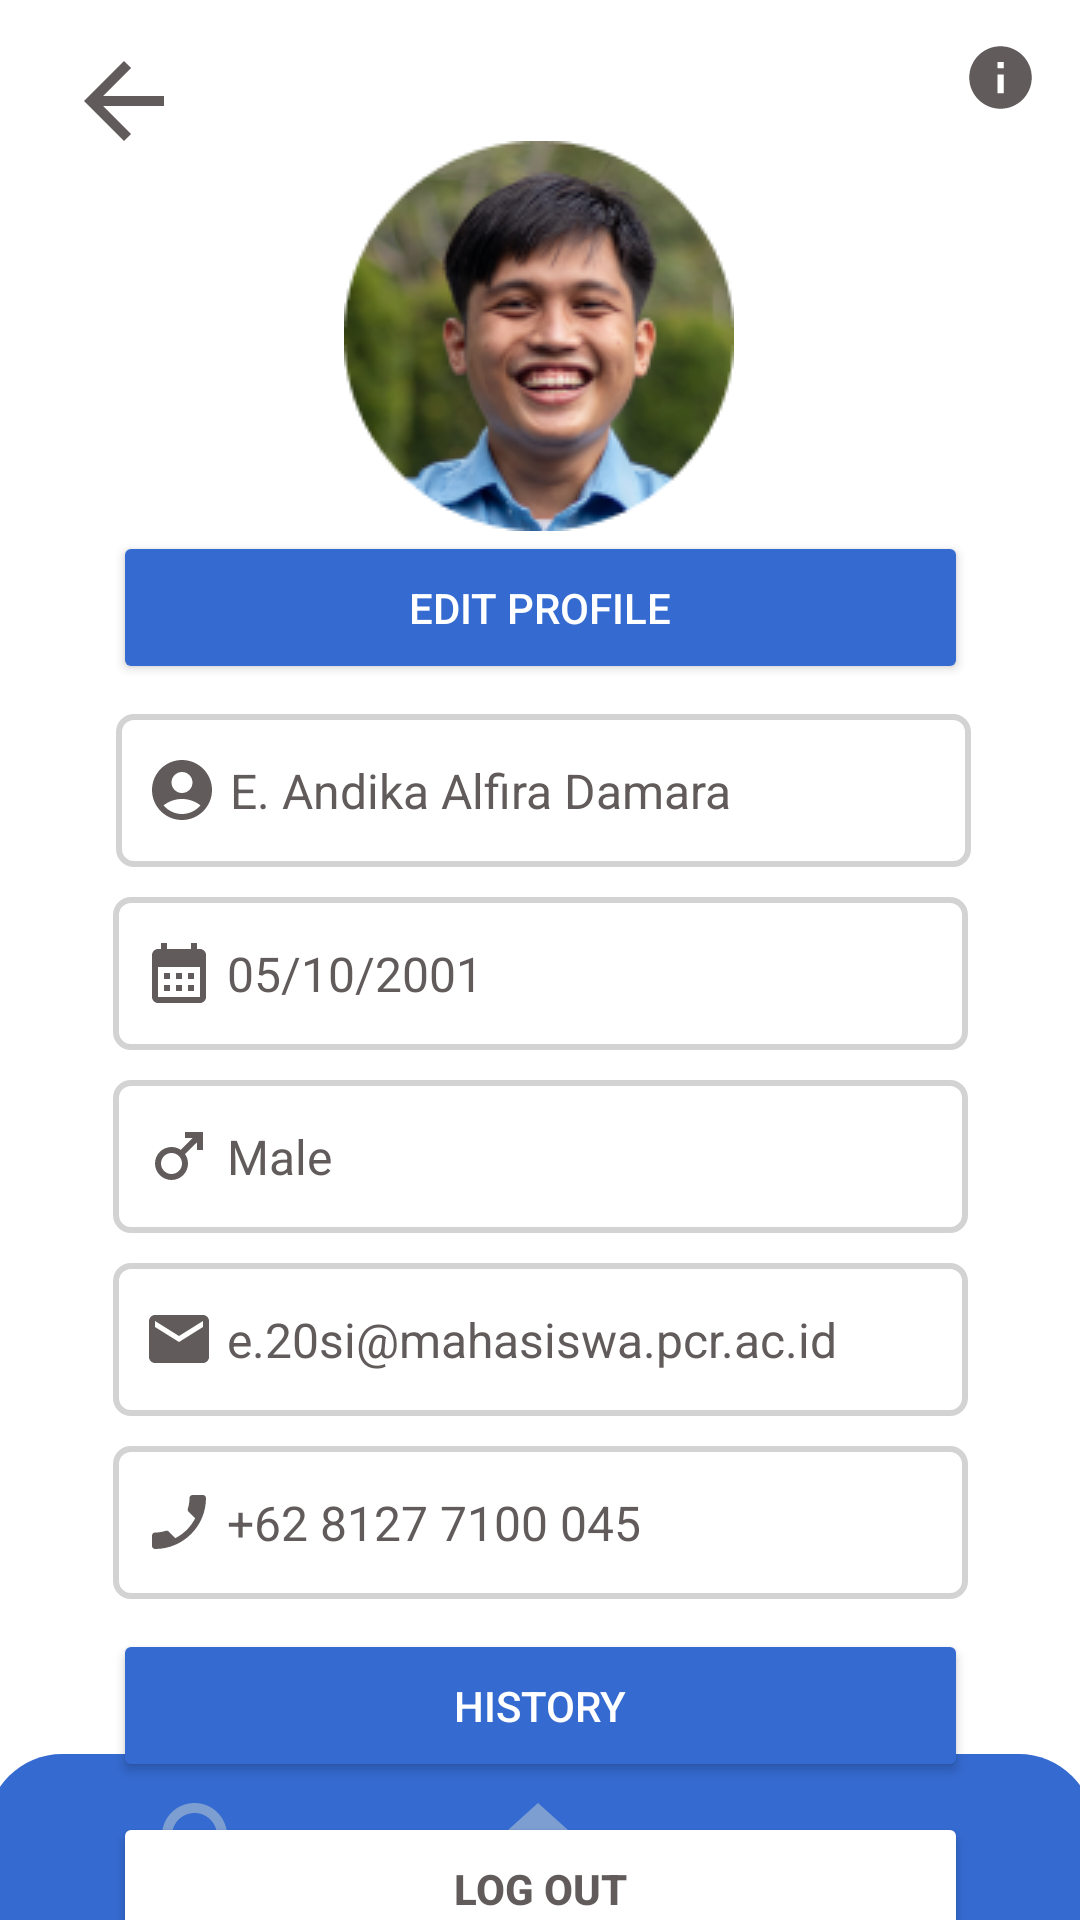

Icons on this 1080 x 1920 Android screen, each with the point to tap as [x,y]:
arrow back: [124,101]
info: [1000,77]
